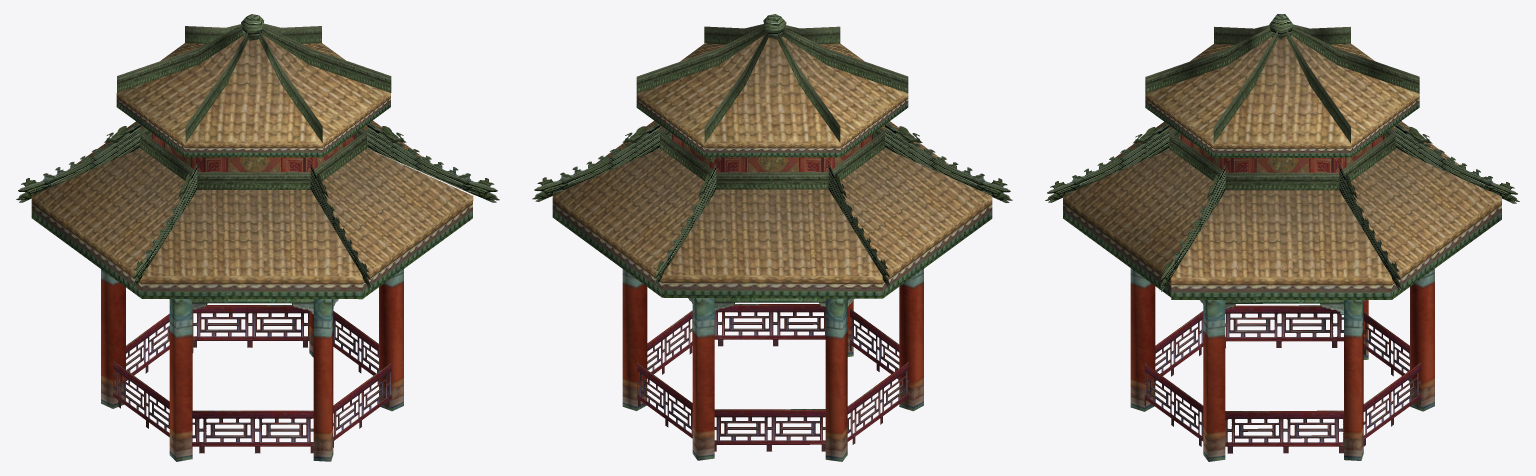
The model's file is cj_pal_south_buil03.glb.
3 views of the same model, side by side, from view 1: azimuth 30°, elevation 25°; view 2: azimuth 150°, elevation 25°; view 3: azimuth 270°, elevation 25° (orthographic).
Visible parts, largest first — view 1: CJ_pal_south_buil03_roof01, CJ_pal_south_buil03_roof02_al, CJ_pal_south_buil03_pillar, CJ_pal_south_buil03_roof01_2side; view 2: CJ_pal_south_buil03_roof01, CJ_pal_south_buil03_roof02_al, CJ_pal_south_buil03_pillar, CJ_pal_south_buil03_roof01_2side; view 3: CJ_pal_south_buil03_roof01, CJ_pal_south_buil03_roof02_al, CJ_pal_south_buil03_pillar, CJ_pal_south_buil03_roof01_2side.
Boxes of the visible parts, left/top/right/bottom form: CJ_pal_south_buil03_roof01: left=31, top=34, right=474, bottom=299; CJ_pal_south_buil03_roof02_al: left=16, top=123, right=499, bottom=453; CJ_pal_south_buil03_pillar: left=101, top=14, right=403, bottom=461; CJ_pal_south_buil03_roof01_2side: left=117, top=23, right=391, bottom=189; CJ_pal_south_buil03_roof01: left=552, top=35, right=992, bottom=298; CJ_pal_south_buil03_roof02_al: left=532, top=123, right=1012, bottom=451; CJ_pal_south_buil03_pillar: left=622, top=14, right=923, bottom=461; CJ_pal_south_buil03_roof01_2side: left=636, top=24, right=908, bottom=189; CJ_pal_south_buil03_roof01: left=1063, top=35, right=1501, bottom=299; CJ_pal_south_buil03_roof02_al: left=1045, top=123, right=1519, bottom=453; CJ_pal_south_buil03_pillar: left=1130, top=14, right=1434, bottom=461; CJ_pal_south_buil03_roof01_2side: left=1145, top=24, right=1419, bottom=190.
Bounding box in the file's own units: 7.57 × 7.64 × 8.5.
Materials: 6 (6 with a texture image).
